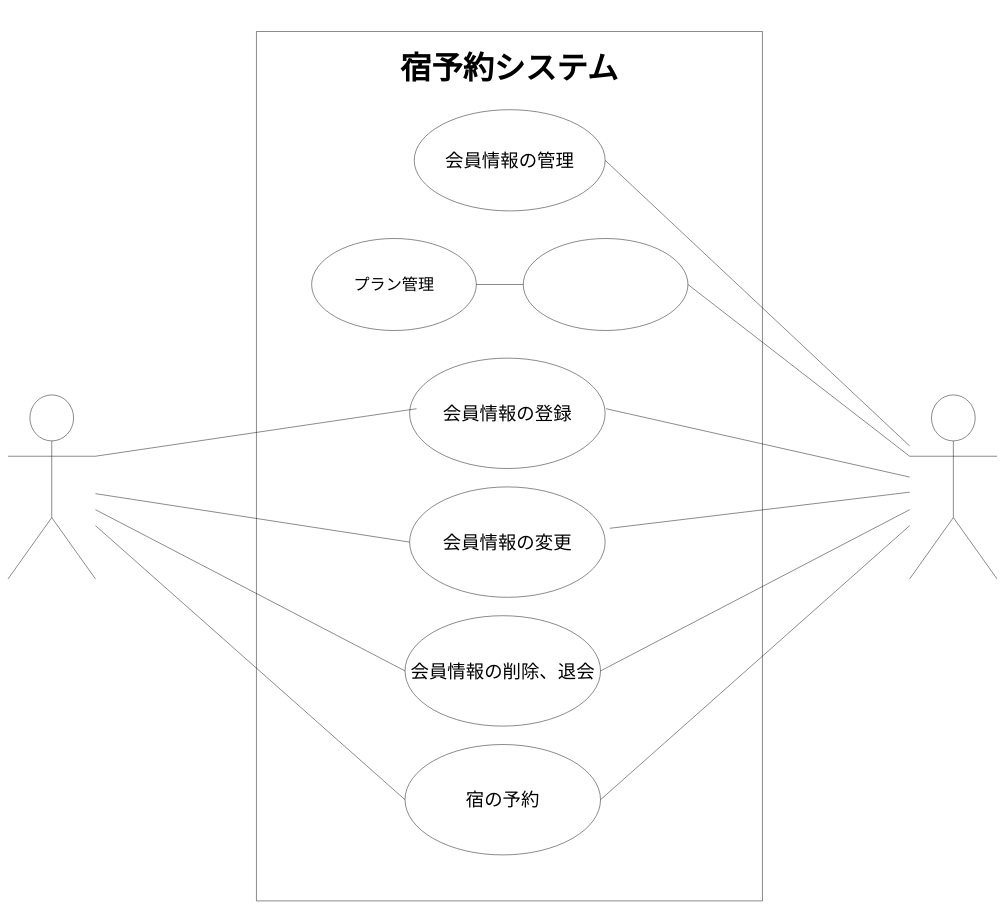
The diagram is 1005 pixels wide and 913 high, and some of its shapes have lost their labels. Each missing label, with the centre of its shape:
"利用者側" goes at (x=51, y=486).
"宿情報管理" goes at (x=605, y=284).
"管理者側" goes at (x=953, y=486).
